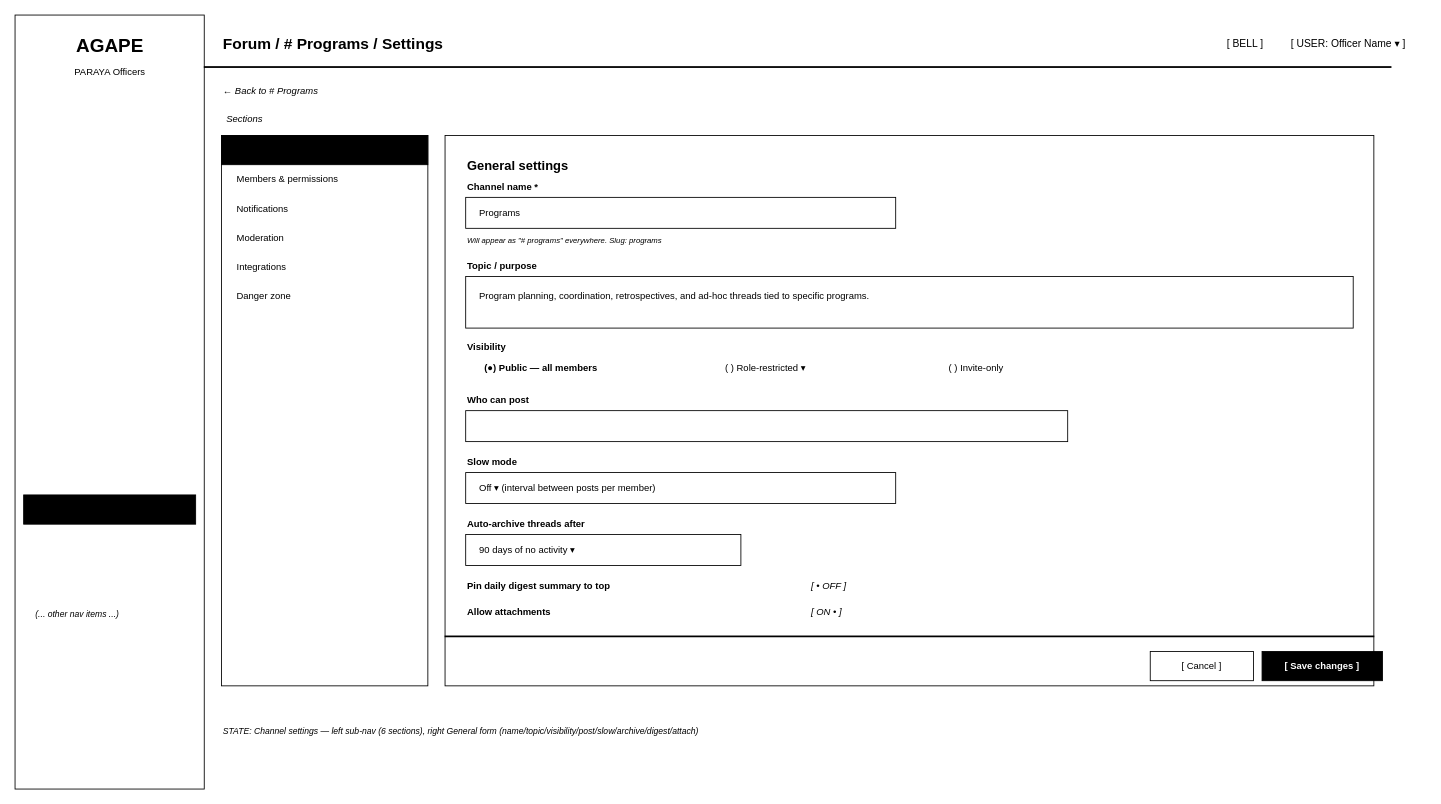
The diagram is 1441 pixels wide and 804 high, and some of its shapes have lost their labels. The shapes that lost their labels are listed below. From the top down, each one's centre as x and y in pixels, then its label:
point 324,150: General
point 766,426: Members (PARAYA staff + Volunteers + Captains + Mother Leaders) ▾
point 109,509: [x] Forum
